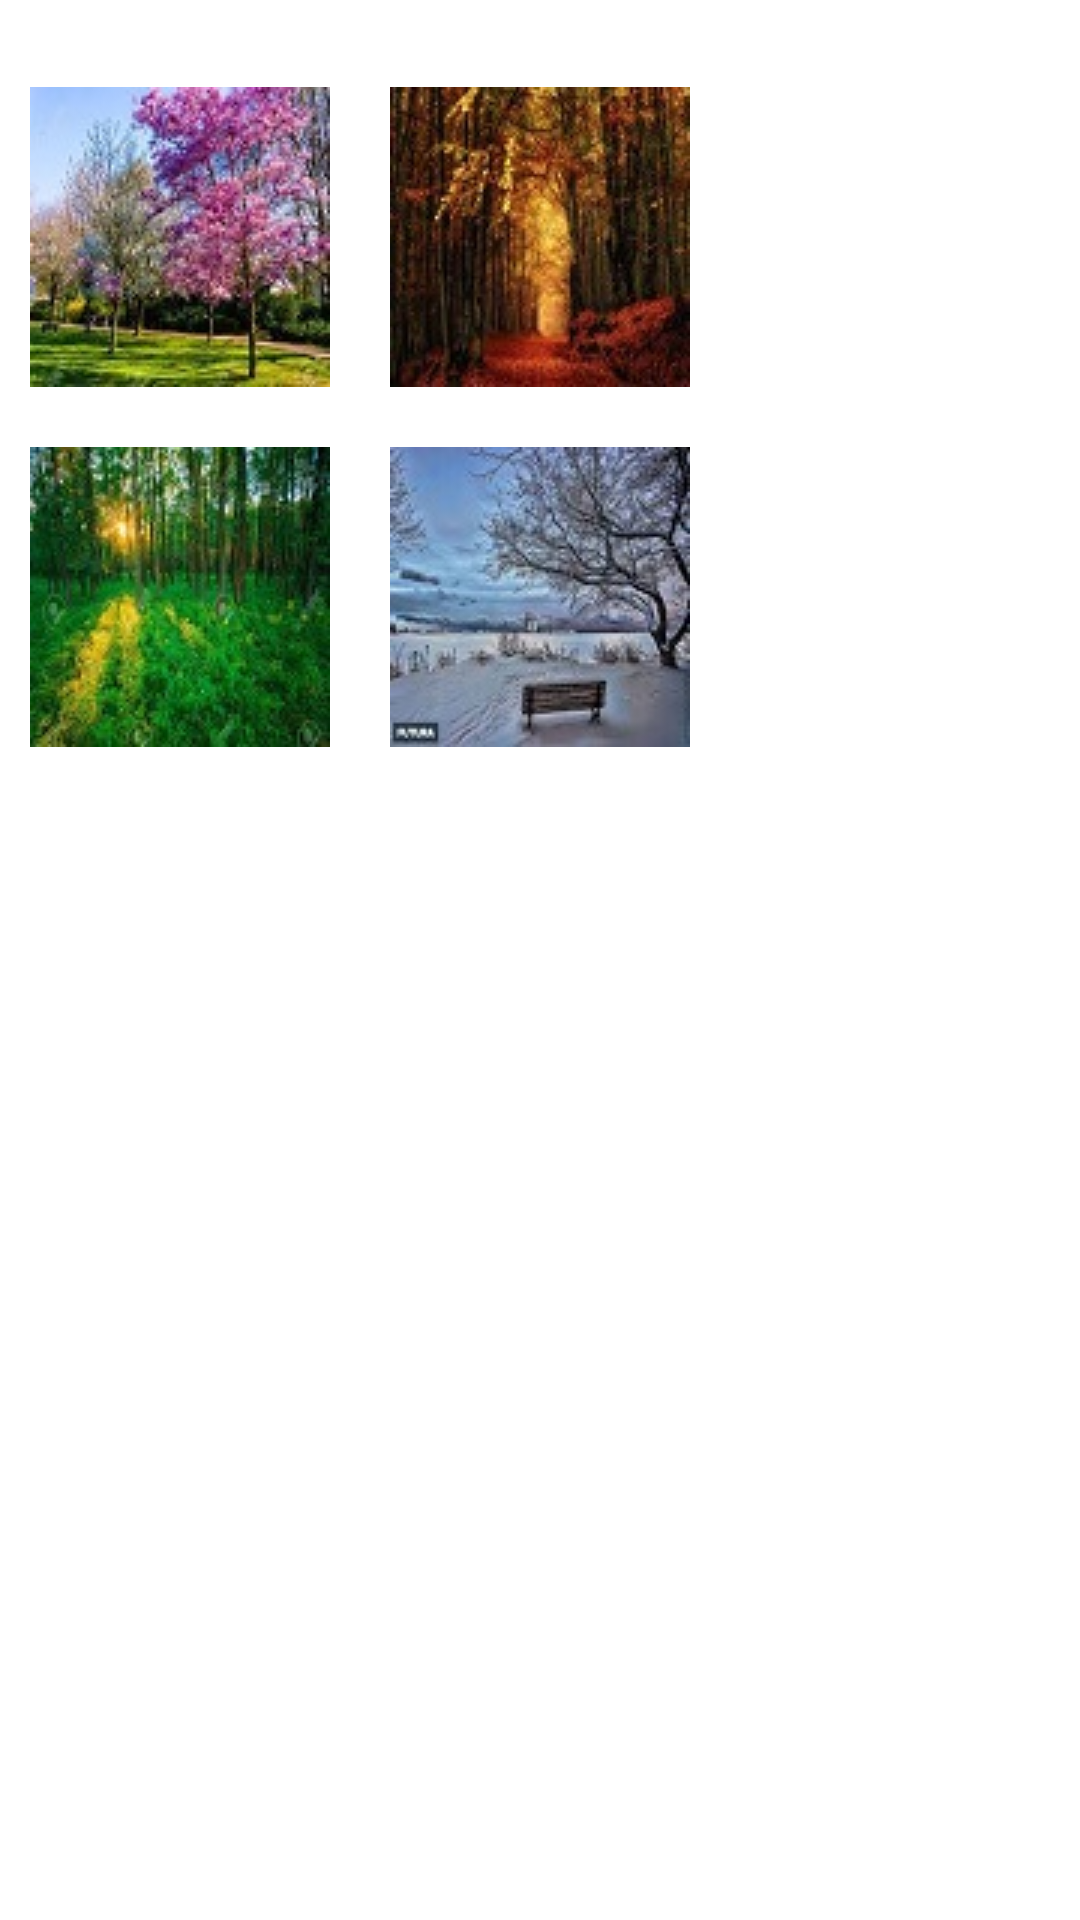

Icons on this 1080w x 1920h Android screen, each with the point to tap as point (x, y):
automne: point (540, 237)
ete: point (180, 597)
hiver: point (540, 597)
printemp: point (180, 237)
